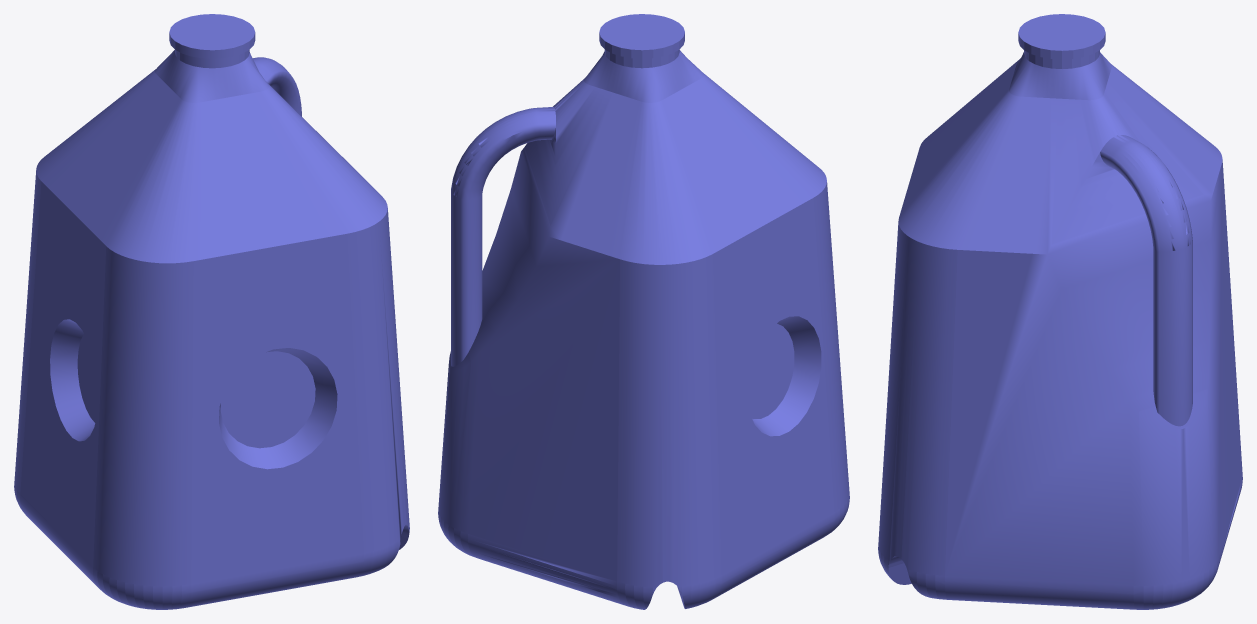
The model's file is milkJug_1.dae.
3 renders of one model, left to right at view 1: azimuth 30°, elevation 25°; view 2: azimuth 150°, elevation 25°; view 3: azimuth 270°, elevation 25°, orthographic.
Parts seen in each view (by area): view 1: group_2; view 2: group_2; view 3: group_2.
Boxes of the visible parts, <box> form: group_2: <box>14,14,409,609</box>; group_2: <box>438,14,849,609</box>; group_2: <box>878,14,1242,609</box>.
Bounding box in the file's own units: 0.1438 × 0.1438 × 0.2226.
